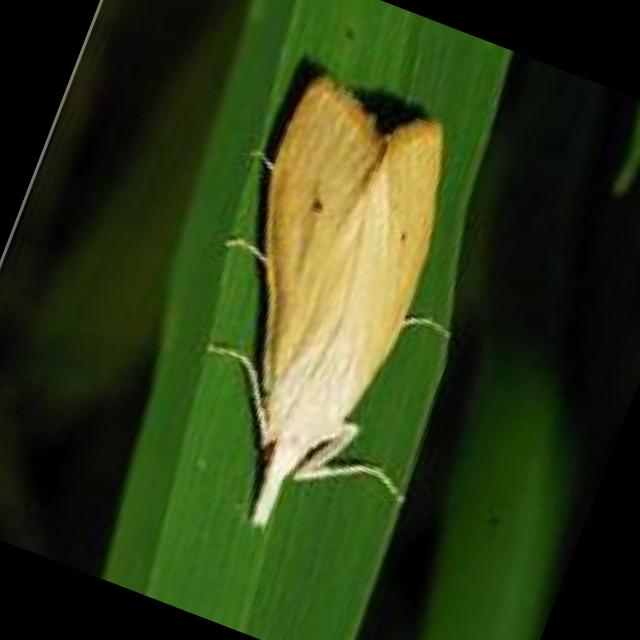stem-borer: (125, 52, 542, 574)
